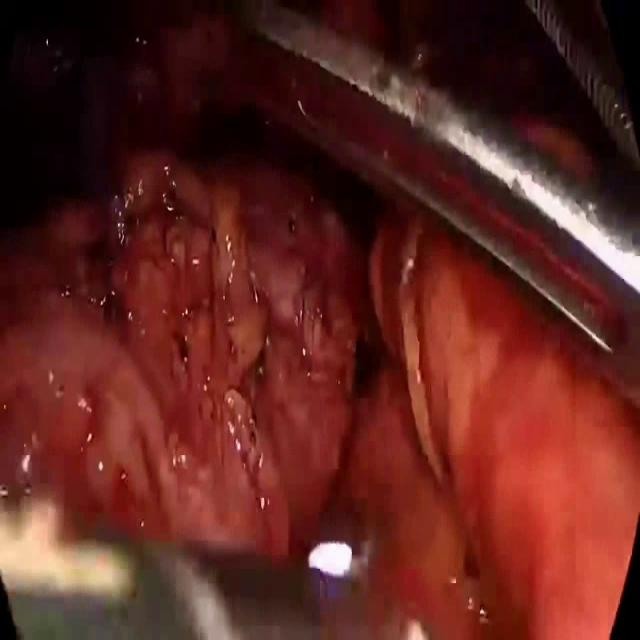surgical-area: (0, 0, 640, 639), (319, 0, 603, 176)
surgical-tool: (236, 0, 640, 377), (0, 537, 335, 639), (525, 0, 640, 177)
